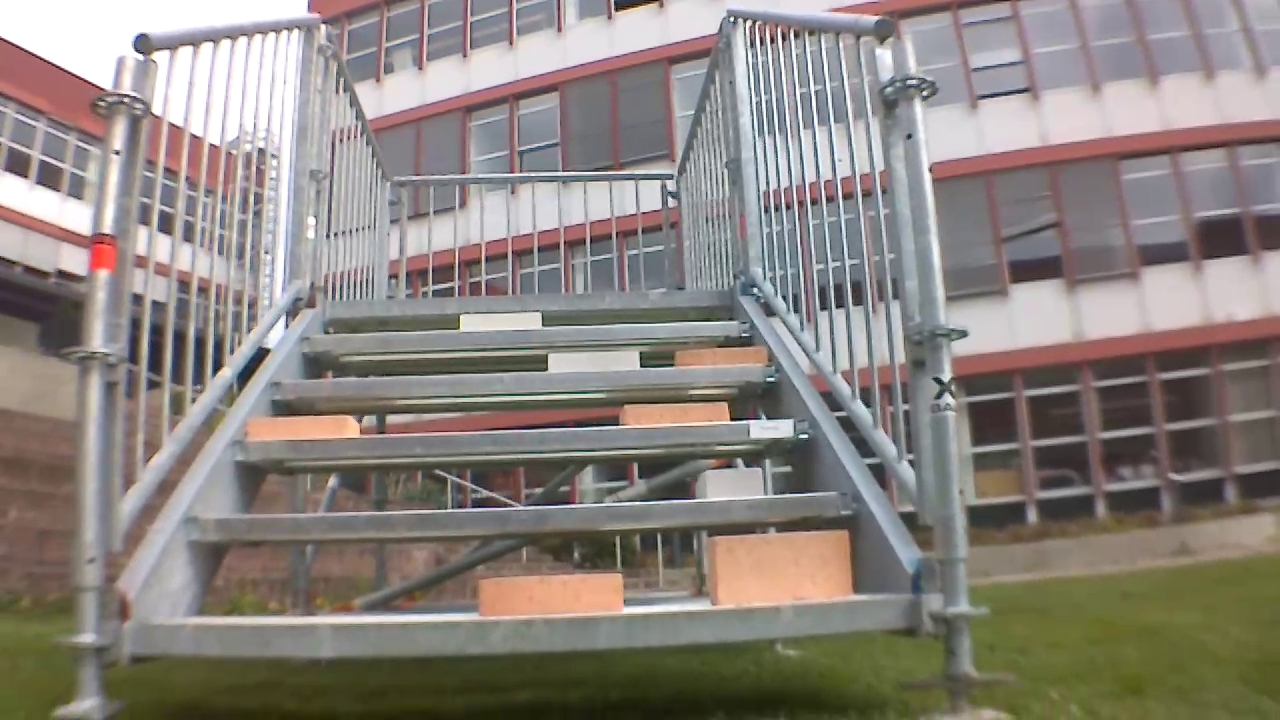brick: (700, 527, 855, 605), (478, 571, 633, 625), (613, 396, 728, 425), (244, 413, 362, 438), (700, 459, 770, 497), (547, 353, 644, 374), (675, 348, 773, 367), (459, 308, 548, 326)
edge: (123, 590, 932, 661), (186, 489, 855, 550), (231, 416, 813, 463), (270, 360, 784, 403), (298, 318, 761, 356), (321, 283, 731, 313)
stairs: (86, 10, 927, 704)
steps: (117, 307, 952, 657)
